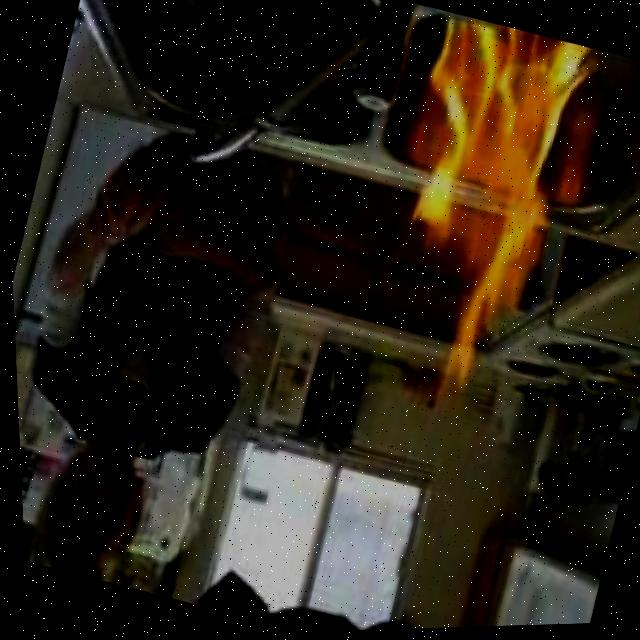Fire: (339, 7, 604, 404)
